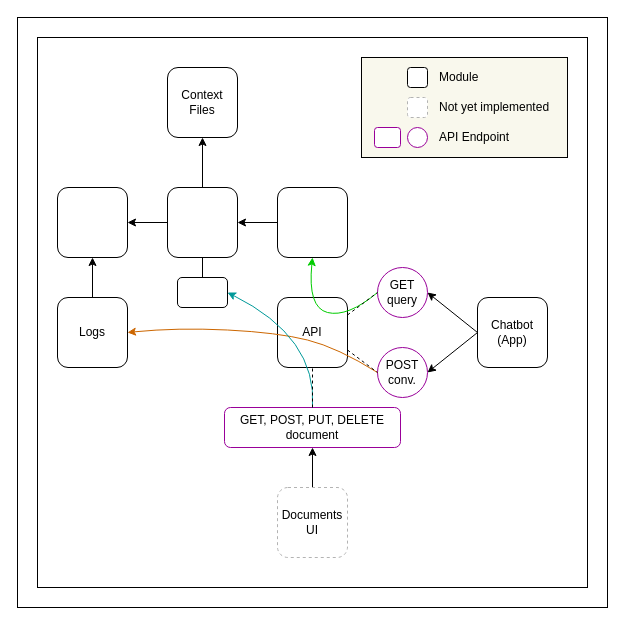
The diagram is 625 pixels wide and 625 high, and some of its shapes have lost their labels. Here are the shapes that lost their labels. From the top down, the box of each, then its label:
(56, 186, 128, 258): Database (Metadata and Logs)
(166, 186, 238, 258): Vector Store
(276, 186, 348, 258): LLM Client
(176, 276, 228, 308): CRUD
